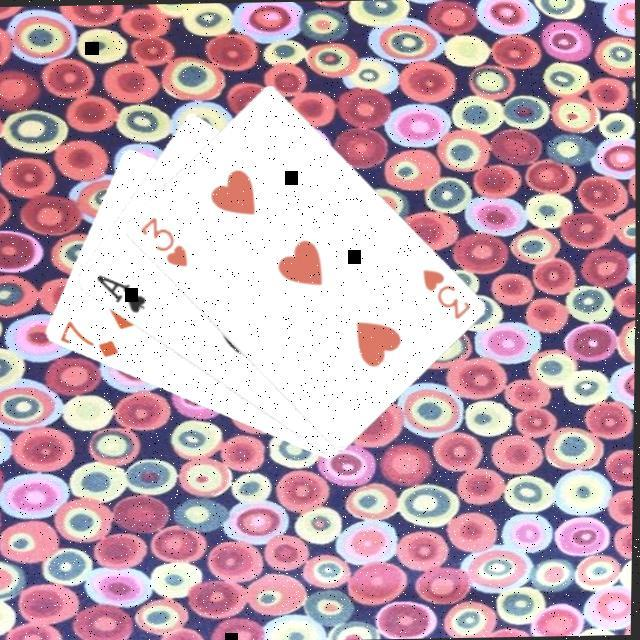3H: (416, 265, 474, 324), (134, 212, 190, 272)
7D: (56, 317, 122, 362)
AS: (91, 270, 149, 318)
